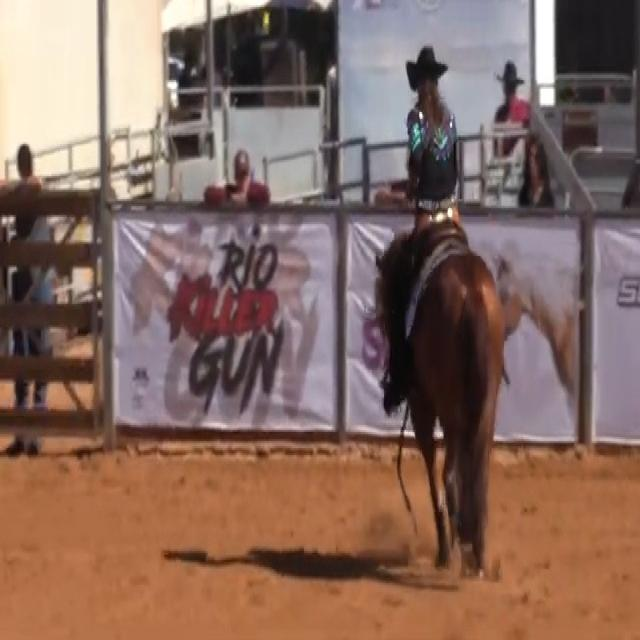horse: (373, 215, 508, 580)
